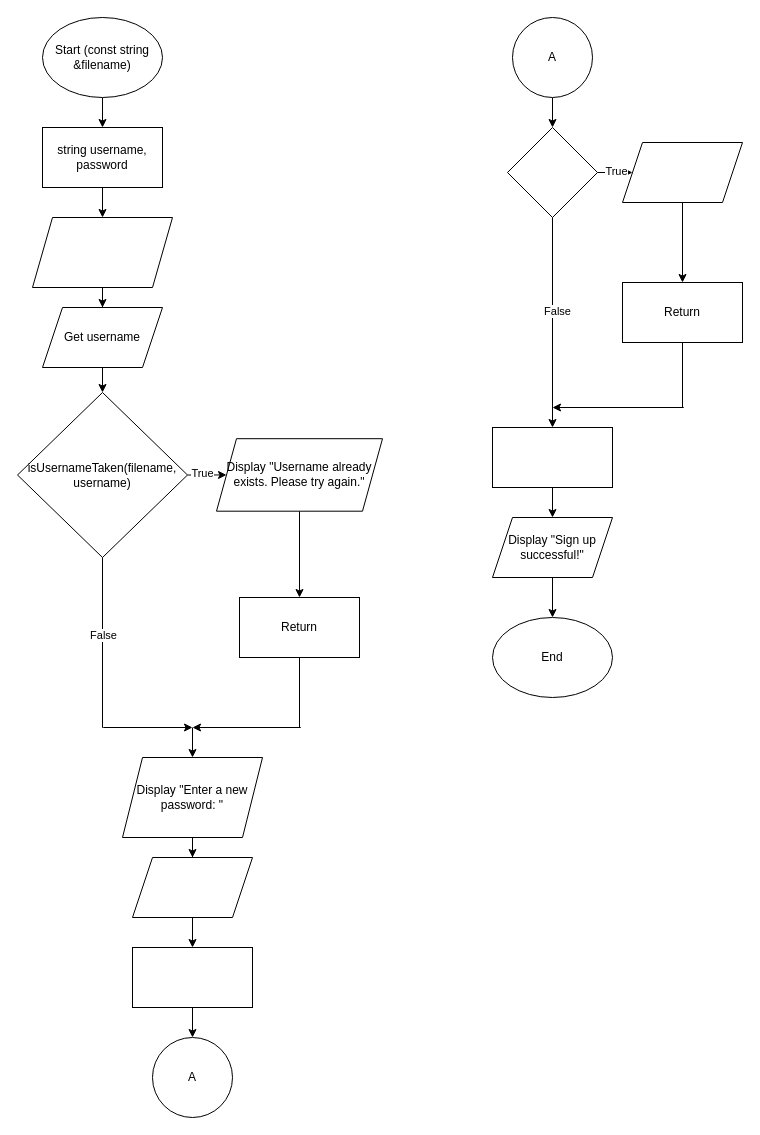
This 760x1135 diagram has some shape labels left out. The centre of each missing label's shape, as x and y in pixels:
!file.is_open(): pixel 552 172
Display "Enter a new username: ": pixel 102 252
Display "Error opening file.": pixel 682 172
file << username << " " << password: pixel 552 457
Get password: pixel 192 887
ofstream file(filename, ios::app): pixel 192 977
